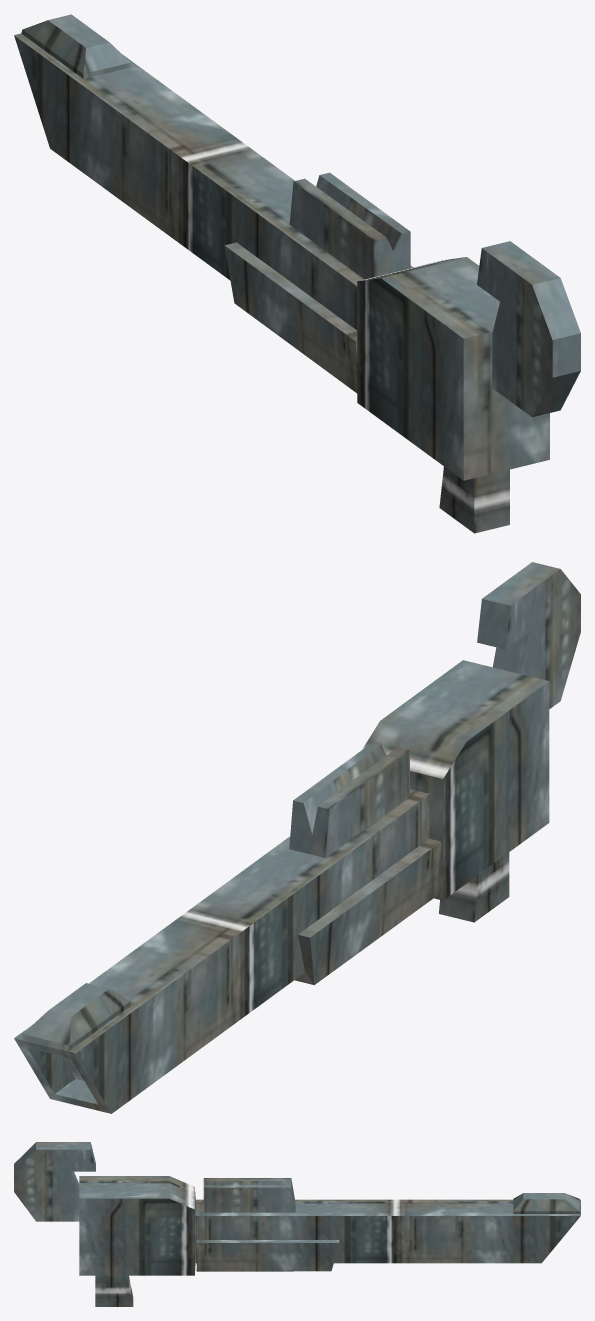
File: LinearRifle.gltf
3 views of the same model, one above another, from view 1: azimuth 30°, elevation 25°; view 2: azimuth 150°, elevation 25°; view 3: azimuth 270°, elevation 25° (orthographic). The views are drawn at different scales.
Parts seen in each view (by area): view 1: Riner; view 2: Riner; view 3: Riner.
Boxes of the visible parts, x1,y1,x2,y2 form: Riner: (14,14,580,533); Riner: (14,562,580,1113); Riner: (14,1142,580,1306).
Bounding box in the file's own units: 0.3665 × 1.17 × 3.84.
1 material, 1 textured.
